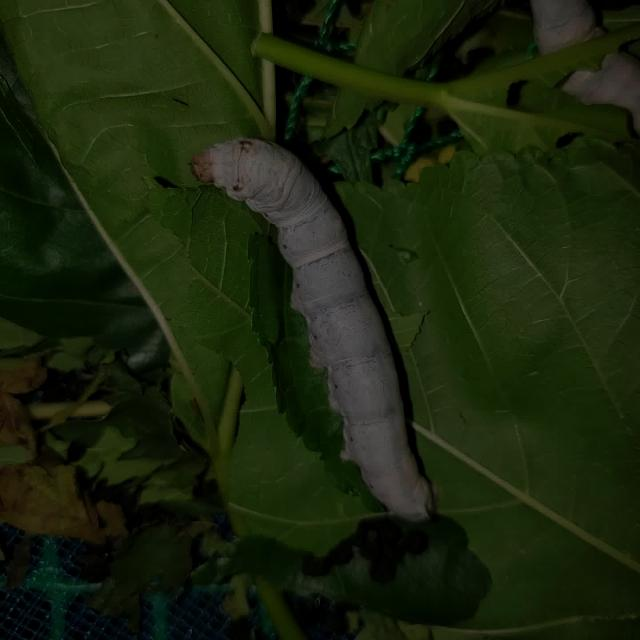Healthy: (170, 115, 480, 538)
